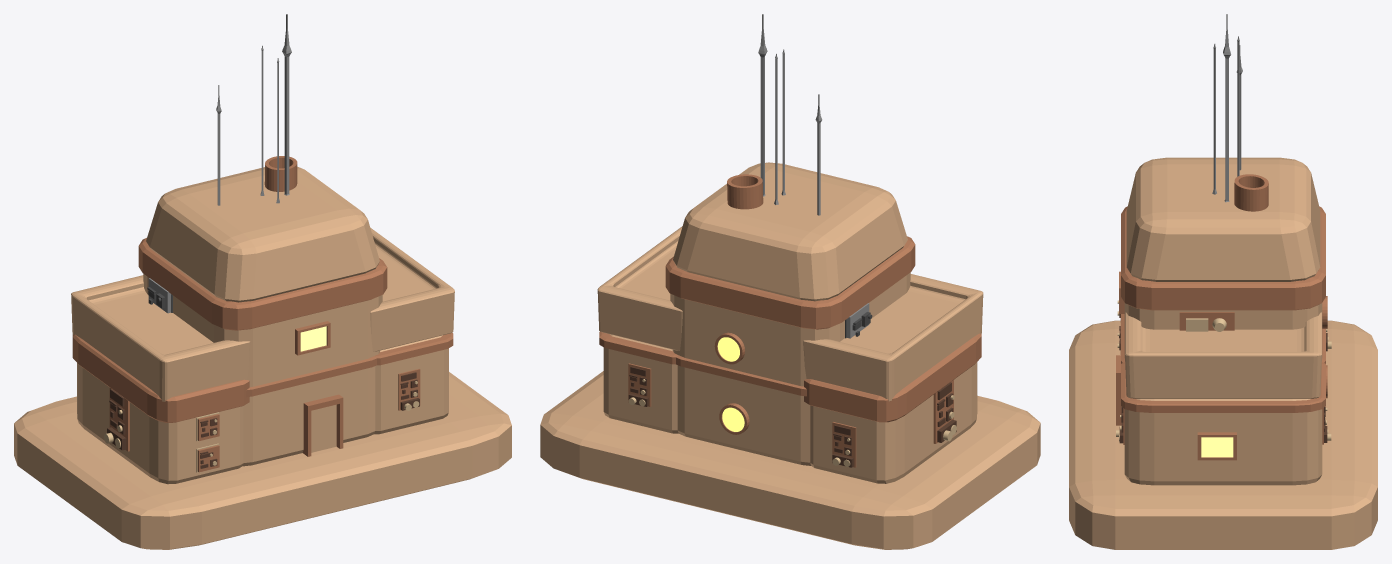
The model's file is nomad_building_22.fbx.
3 renders of one model, left to right at view 1: azimuth 30°, elevation 25°; view 2: azimuth 150°, elevation 25°; view 3: azimuth 270°, elevation 25°, orthographic. The views are drawn at different scales.
Parts seen in each view (by area): view 1: B22_M_Foundation_rectangular, B22_M_R10_square_roof_defualt, B22_M_R02_roof_simple, B22_M_Blk02_rectangular_unit, B22_M_Blk10_base, B22_M_B10_Band_square_diameter_thich, B22_M_Blk00_base, B22_M_R01_roof_simple, B22_M_B02_Band_square_diameter_thich, B22_M_Blk01_rectangular_unit, B22_M_B00_Band_square_diameter_default, B22_M_Door_Door_Frame (+4 smaller); view 2: B22_M_Foundation_rectangular, B22_M_R10_square_roof_defualt, B22_M_R02_roof_simple, B22_M_Blk00_base, B22_M_Blk02_rectangular_unit, B22_M_Blk10_base, B22_M_B10_Band_square_diameter_thich, B22_M_R01_roof_simple, B22_M_B02_Band_square_diameter_thich, B22_M_Blk01_rectangular_unit, B22_M_B00_Band_square_diameter_default, B22_M_Stack0_TowerBody_StackWide (+2 smaller); view 3: B22_M_Foundation_rectangular, B22_M_R10_square_roof_defualt, B22_M_R01_roof_simple, B22_M_Blk01_rectangular_unit, B22_M_B10_Band_square_diameter_thich, B22_M_B01_Band_square_diameter_default, B22_M_Blk10_base, B22_M_Stack0_TowerBody_StackWide, B22_M_Mast2_AntennaMast_Tall, B22_M_S0_Win301_WindowRectLarge_Glass, B22_M_Panel1_PanelBox_Body001, B22_M_S0_Win301_WindowRectLarge_Frame (+2 smaller).
Part boxes in pixels (box(x1,y1,x2,y2)): B22_M_Foundation_rectangular: box(14, 372, 511, 549); B22_M_R10_square_roof_defualt: box(146, 166, 379, 302); B22_M_R02_roof_simple: box(71, 275, 250, 401); B22_M_Blk02_rectangular_unit: box(77, 363, 243, 484); B22_M_Blk10_base: box(143, 274, 382, 386); B22_M_B10_Band_square_diameter_thich: box(138, 238, 387, 330); B22_M_Blk00_base: box(242, 366, 375, 466); B22_M_R01_roof_simple: box(370, 228, 454, 351); B22_M_B02_Band_square_diameter_thich: box(72, 334, 249, 422); B22_M_Blk01_rectangular_unit: box(374, 335, 448, 434); B22_M_B00_Band_square_diameter_default: box(246, 356, 376, 397); B22_M_Door_Door_Frame: box(302, 394, 343, 456); B22_M_Foundation_rectangular: box(540, 371, 1040, 549); B22_M_R10_square_roof_defualt: box(673, 162, 907, 301); B22_M_R02_roof_simple: box(803, 274, 983, 401); B22_M_Blk00_base: box(677, 365, 811, 465); B22_M_Blk02_rectangular_unit: box(810, 362, 977, 483); B22_M_Blk10_base: box(670, 272, 910, 386); B22_M_B10_Band_square_diameter_thich: box(665, 236, 915, 329); B22_M_R01_roof_simple: box(597, 226, 682, 350); B22_M_B02_Band_square_diameter_thich: box(804, 333, 981, 422); B22_M_Blk01_rectangular_unit: box(603, 334, 678, 433); B22_M_B00_Band_square_diameter_default: box(676, 355, 806, 396); B22_M_Stack0_TowerBody_StackWide: box(727, 174, 763, 209); B22_M_Foundation_rectangular: box(1069, 320, 1377, 549); B22_M_R10_square_roof_defualt: box(1126, 157, 1320, 281); B22_M_R01_roof_simple: box(1125, 312, 1321, 398); B22_M_Blk01_rectangular_unit: box(1124, 398, 1322, 485); B22_M_B10_Band_square_diameter_thich: box(1121, 206, 1325, 310); B22_M_B01_Band_square_diameter_default: box(1121, 362, 1325, 412); B22_M_Blk10_base: box(1124, 303, 1322, 357); B22_M_Stack0_TowerBody_StackWide: box(1234, 174, 1268, 211); B22_M_Mast2_AntennaMast_Tall: box(1223, 14, 1230, 202); B22_M_S0_Win301_WindowRectLarge_Glass: box(1201, 437, 1233, 457); B22_M_Panel1_PanelBox_Body001: box(1179, 312, 1234, 330); B22_M_S0_Win301_WindowRectLarge_Frame: box(1197, 432, 1236, 460).
Size of the model in its own units: 395 by 431 by 264.
